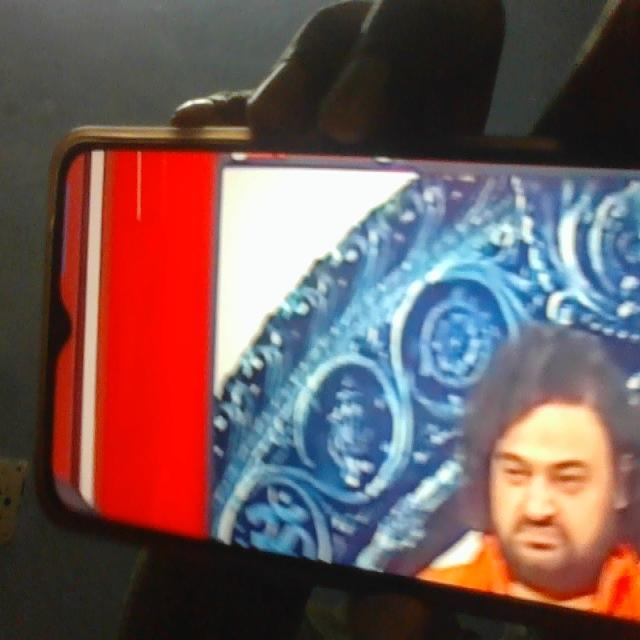fake: (492, 338, 627, 594)
